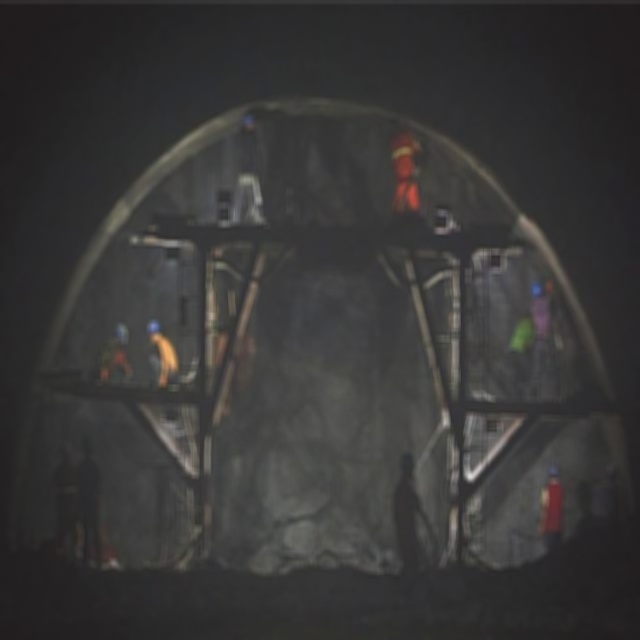Con_Chaleco: (391, 133, 417, 175)
Sin_Chaleco: (238, 129, 258, 175)
